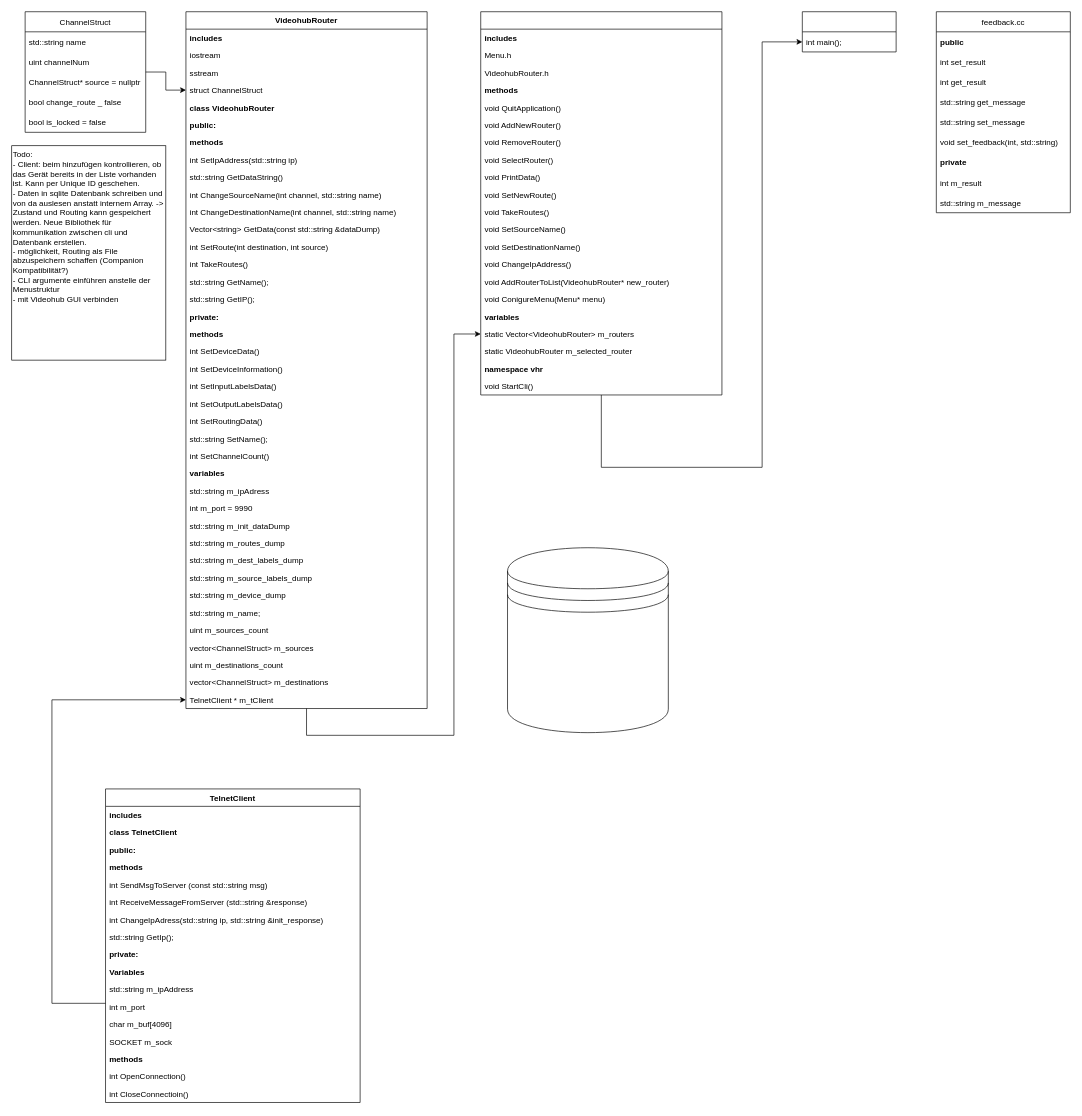
The diagram is 1082 pixels wide and 1116 high, and some of its shapes have lost their labels. Here are the shapes that lost their labels. From the top down, the box of each, then its label:
(802, 11, 896, 52): main.cc
(480, 11, 722, 395): VideohubCli
(507, 547, 668, 733): Videohubrouters
